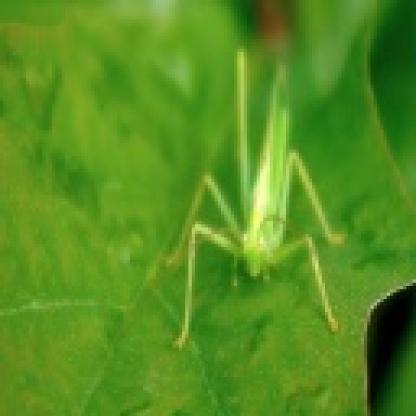grasshopper: (164, 39, 348, 341)
